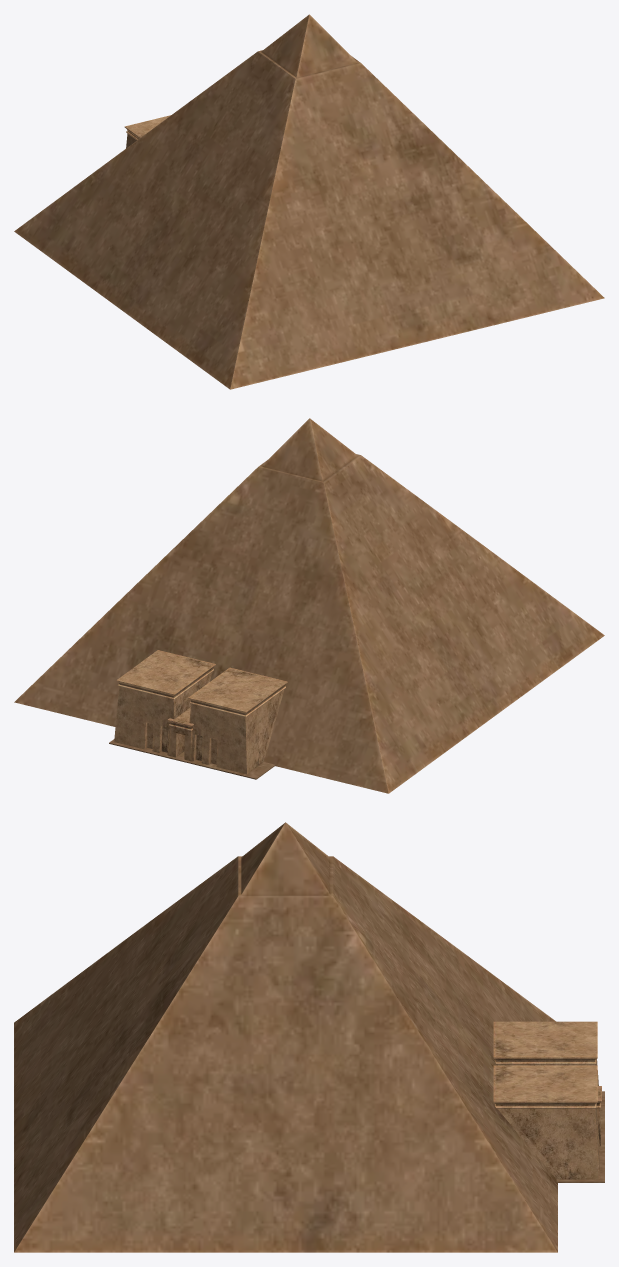
The picture shows the model from 3 angles, top to bottom: view 1: azimuth 30°, elevation 25°; view 2: azimuth 150°, elevation 25°; view 3: azimuth 270°, elevation 25°; orthographic projection. The views are drawn at different scales.
Visible parts, largest first — view 1: ta_dimo__2_pyramid_0, men_dimo__1_pyramid_0; view 2: ta_dimo__2_pyramid_0, men_dimo__1_pyramid_0; view 3: ta_dimo__2_pyramid_0, men_dimo__1_pyramid_0.
Part boxes in pixels (box(x1,y1,x2,y2)): ta_dimo__2_pyramid_0: box(14, 14, 604, 389); men_dimo__1_pyramid_0: box(124, 115, 170, 148); ta_dimo__2_pyramid_0: box(14, 418, 604, 793); men_dimo__1_pyramid_0: box(114, 650, 287, 774); ta_dimo__2_pyramid_0: box(14, 822, 604, 1252); men_dimo__1_pyramid_0: box(493, 1021, 601, 1179).
Bounding box in the file's own units: 6.36 × 4.07 × 6.91.
Materials: 2 (2 with a texture image).
